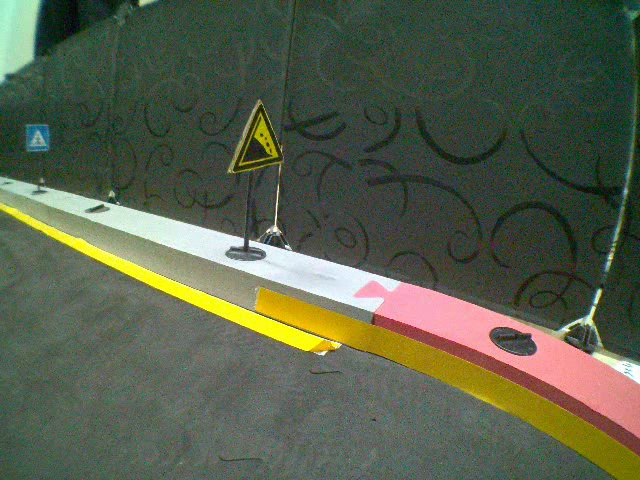crossing: (25, 123, 50, 150)
fast: (223, 97, 287, 170)
